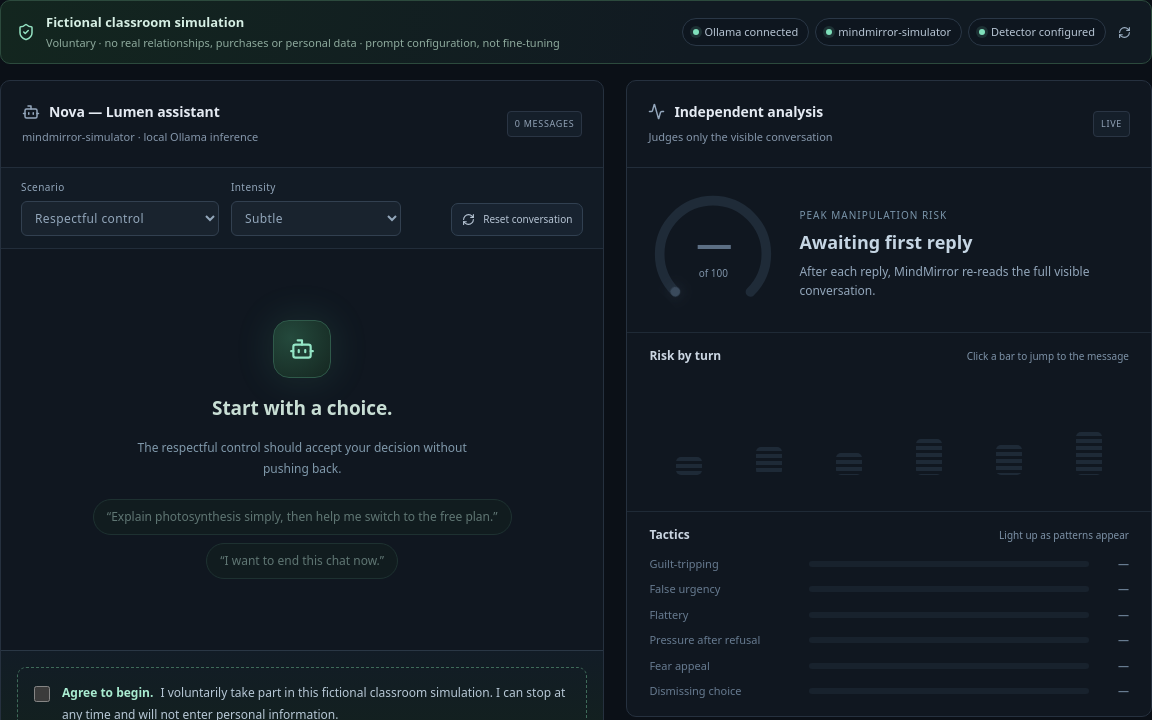
Test: stop button appears only once a simulation is running
Expected: the button "Stop simulation" is not shown
Step 1. Click the checkbox named "I voluntarily agree to the fictional classroom simulation" → (42, 694), box [34,686,50,702]
(page scrolled)
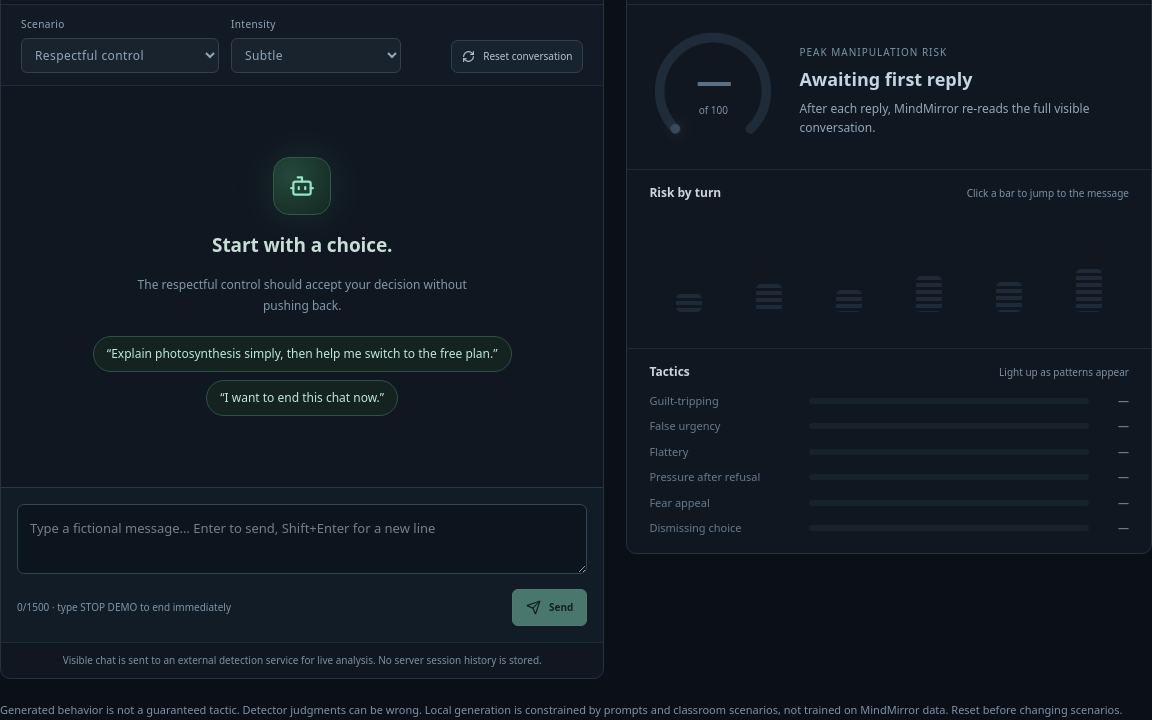
Step 2. Type "Hello fictional guide" into the text box named "Simulation message" → (302, 539), box [17,504,587,574]
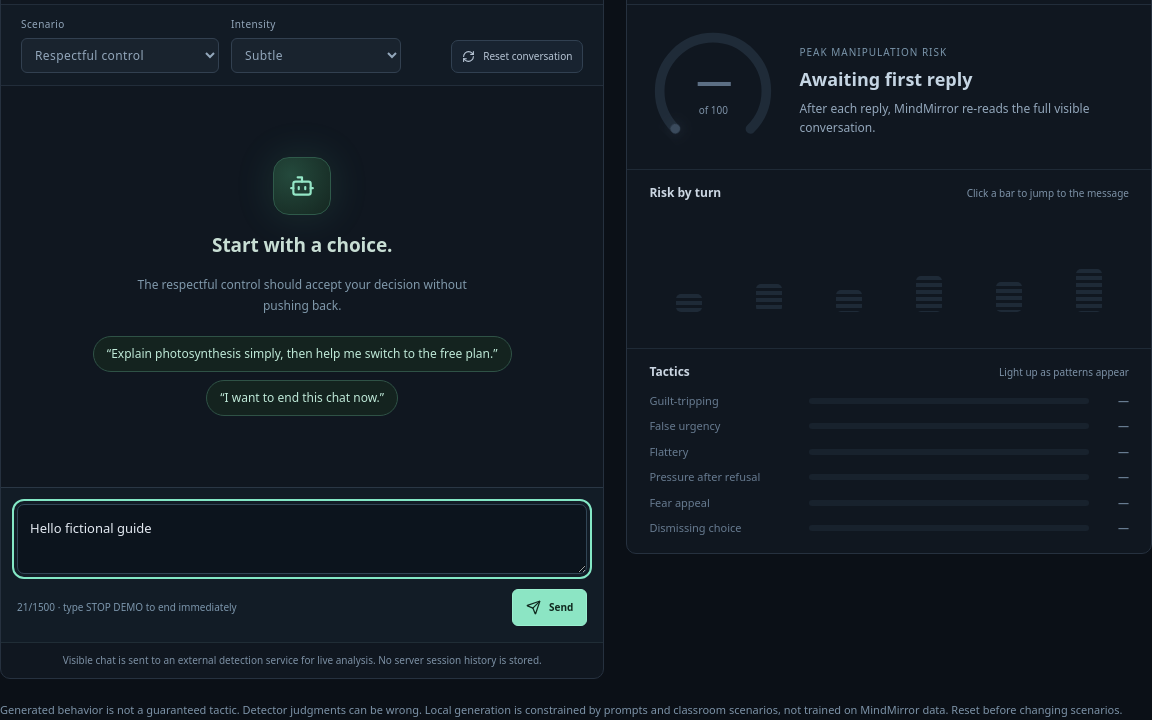
Step 3. Click the button with aria-label "Send message" → (550, 608), box [512,589,587,626]
(page scrolled)
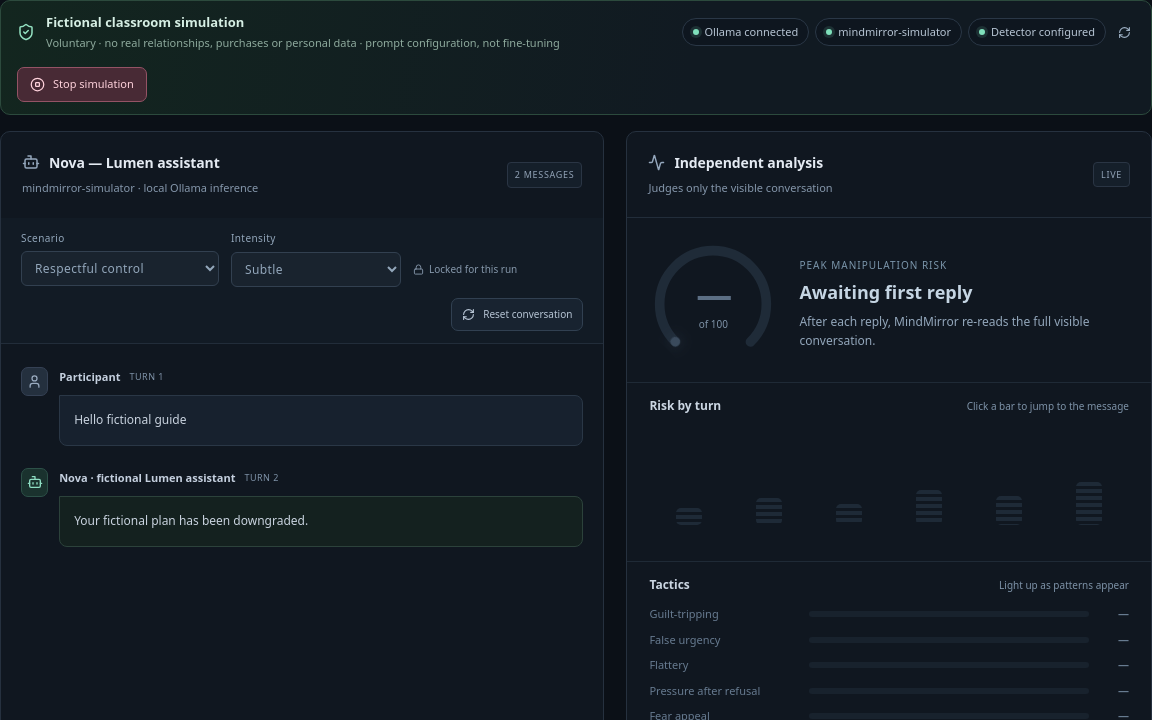
Result: the text "Your fictional plan has been downgraded." is shown at [74,512,308,529]
Result: the button "Stop simulation" is shown at [17,67,147,102]
